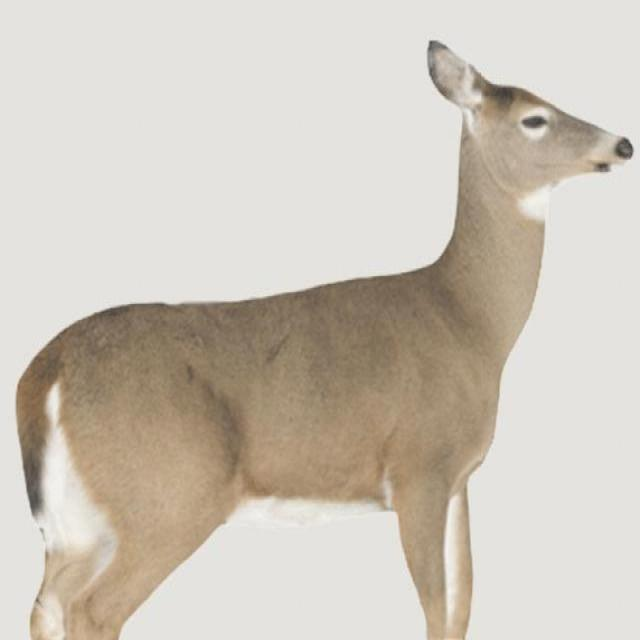deer: (15, 39, 636, 630)
